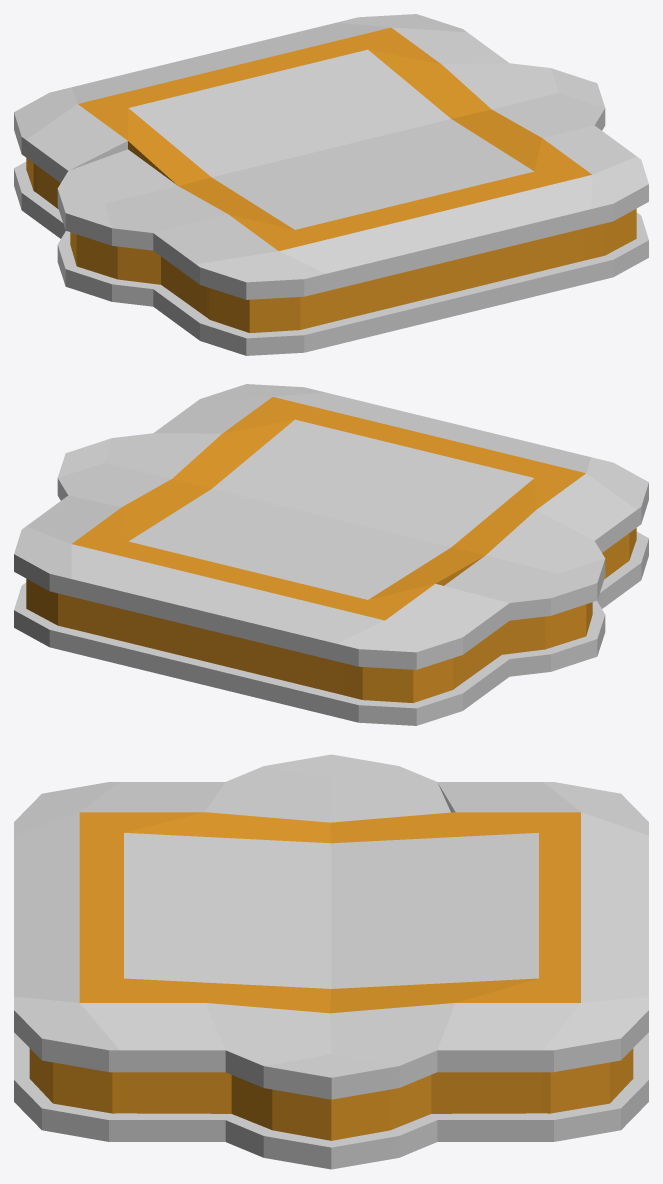
File: Buildings-platform2-fix.fbx
3 renders of one model, top to bottom at view 1: azimuth 30°, elevation 25°; view 2: azimuth 150°, elevation 25°; view 3: azimuth 270°, elevation 25°, orthographic. The views are drawn at different scales.
Parts seen in each view (by area): view 1: Platform; view 2: Platform; view 3: Platform.
Part boxes in pixels (x1,y1,x2,y2): Platform: [14, 14, 648, 355]; Platform: [14, 384, 648, 725]; Platform: [14, 754, 648, 1169].
Size of the model in its own units: 24.1 by 3.55 by 20.
